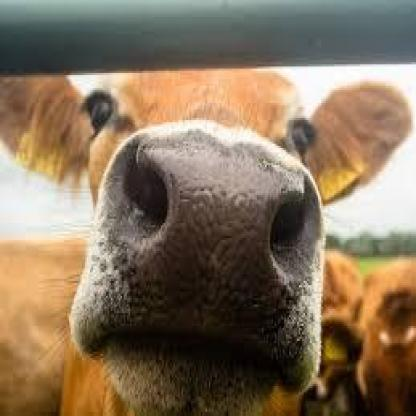cow: (1, 68, 412, 416), (352, 255, 416, 416)
